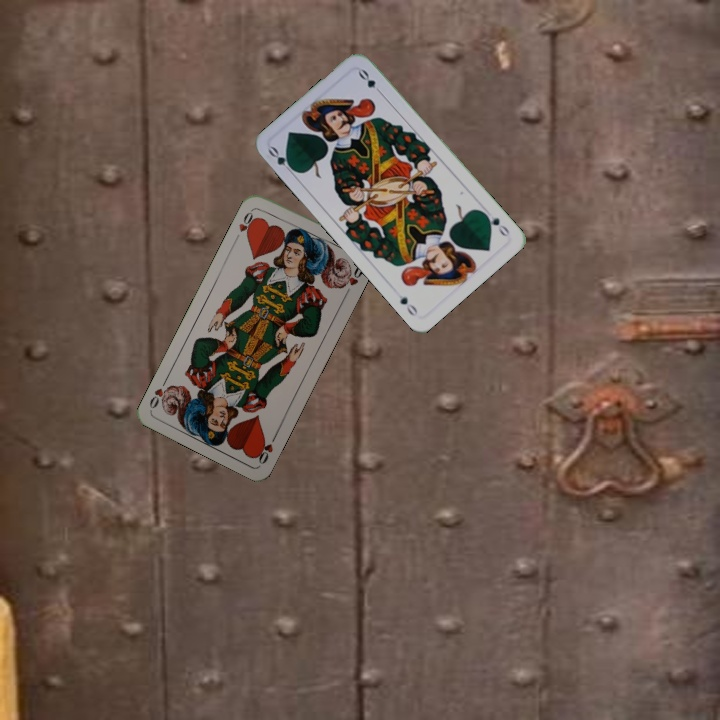GO: (264, 142, 298, 177), (479, 208, 512, 240)
HO: (231, 205, 259, 243), (252, 429, 280, 467)
